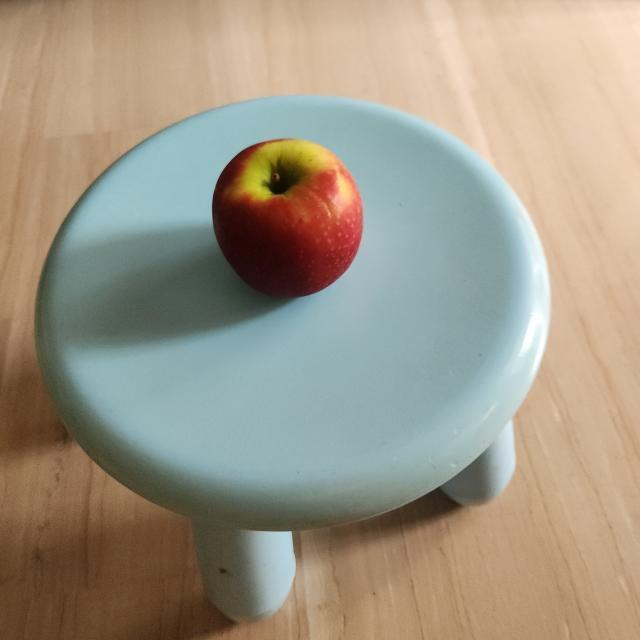apple: (208, 135, 366, 304)
